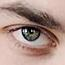eye: (22, 27, 39, 41)
